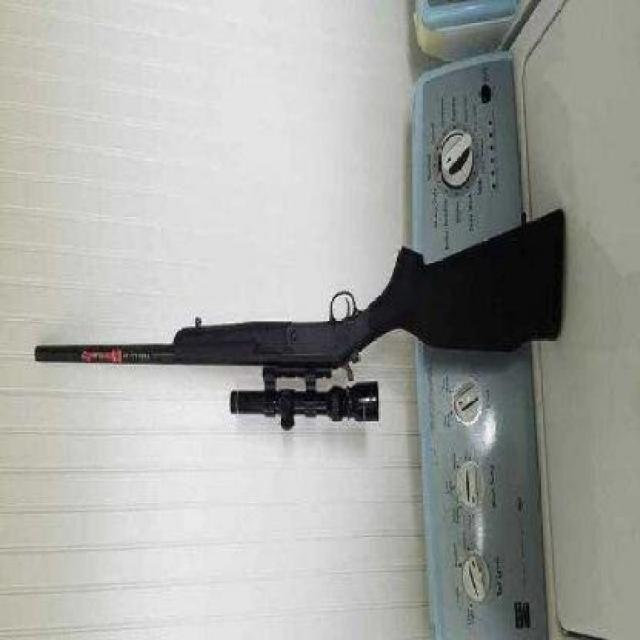weapon: (29, 211, 583, 420)
